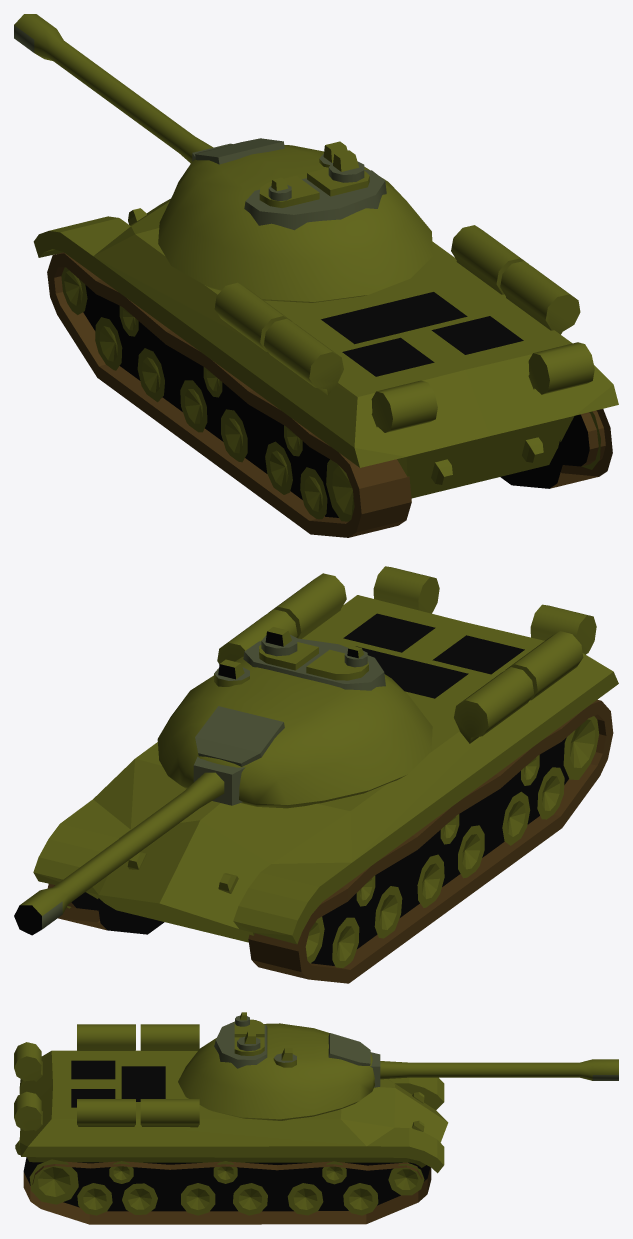
3 views of the same model, one above another, from view 1: azimuth 30°, elevation 25°; view 2: azimuth 150°, elevation 25°; view 3: azimuth 270°, elevation 25° (orthographic). The views are drawn at different scales.
Visible parts, largest first — view 1: hull.002, is_3_turret.002, barrel; view 2: hull.002, is_3_turret.002, barrel; view 3: hull.002, is_3_turret.002, barrel.
Boxes of the visible parts, x1=… form: hull.002: x1=33, y1=198, x2=618, y2=537; is_3_turret.002: x1=158, y1=138, x2=432, y2=302; barrel: x1=14, y1=14, x2=232, y2=163; hull.002: x1=33, y1=566, x2=618, y2=983; is_3_turret.002: x1=157, y1=627, x2=432, y2=808; barrel: x1=14, y1=756, x2=245, y2=935; hull.002: x1=14, y1=1024, x2=448, y2=1224; is_3_turret.002: x1=178, y1=1012, x2=374, y2=1120; barrel: x1=370, y1=1052, x2=618, y2=1087.
Bounding box in the file's own units: 0.3356 × 0.2952 × 1.
